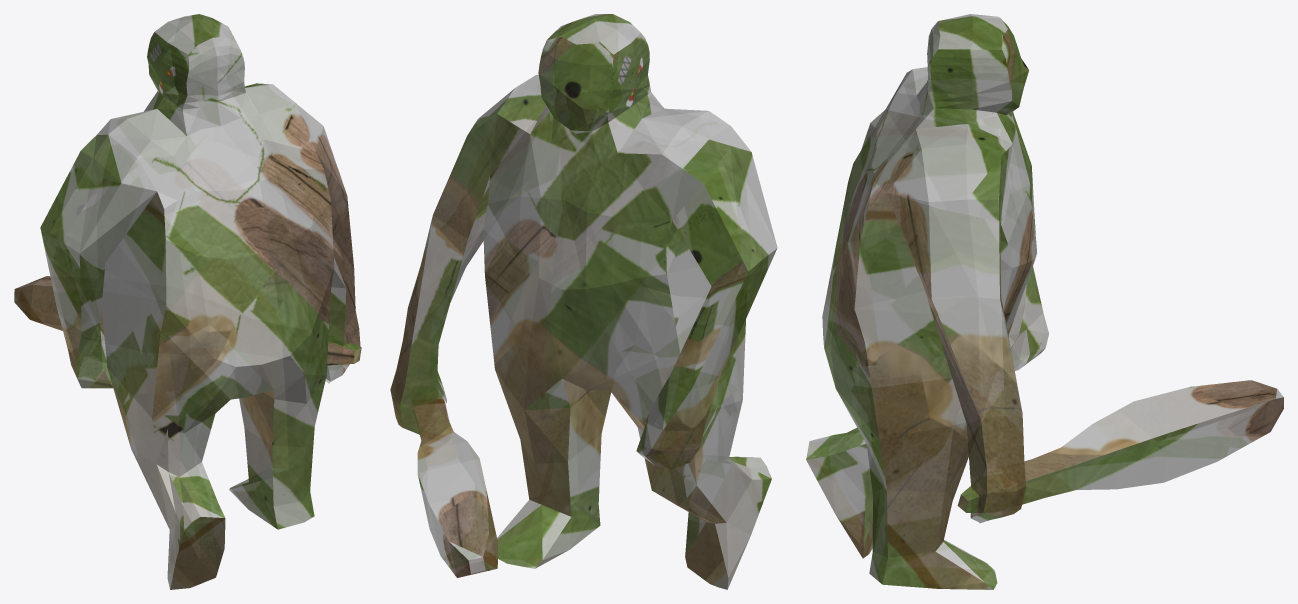
The model's file is Enemigo218.obj.
3 views of the same model, side by side, from view 1: azimuth 30°, elevation 25°; view 2: azimuth 150°, elevation 25°; view 3: azimuth 270°, elevation 25° (orthographic). The views are drawn at different scales.
Parts seen in each view (by area): view 1: Cube; view 2: Cube; view 3: Cube.
Part boxes in pixels (<box>): Cube: <box>14,14,361,589</box>; Cube: <box>390,14,777,589</box>; Cube: <box>806,14,1283,589</box>.
Bounding box in the file's own units: 1.79 × 2.83 × 2.16.
